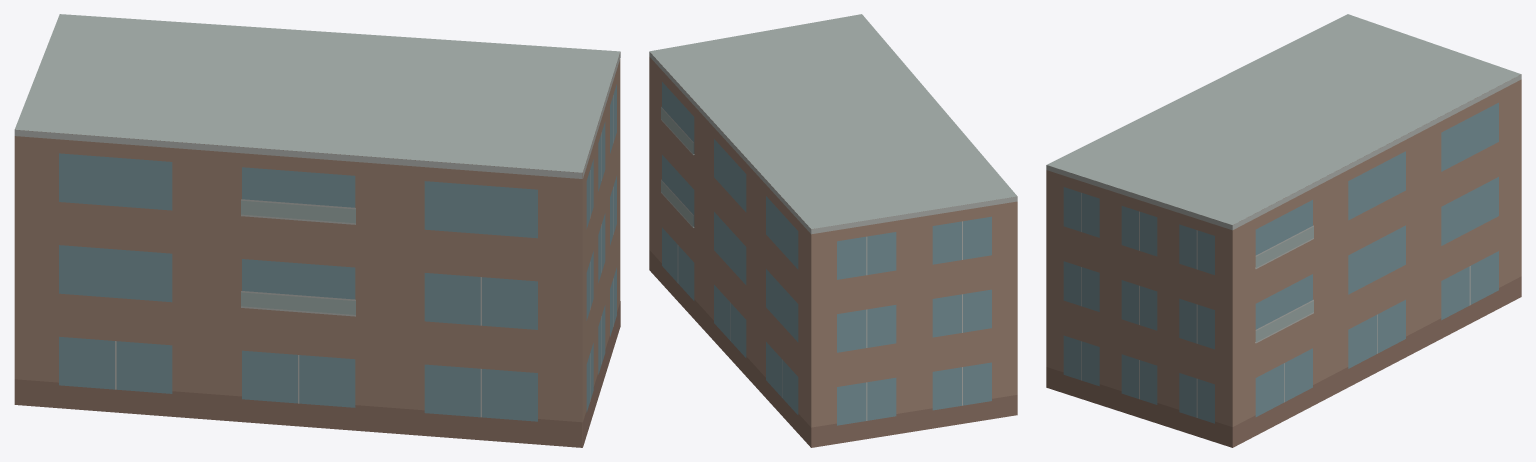
The model's file is survey-upis-32927596.glb.
The picture shows the model from 3 angles, left to right: view 1: azimuth 30°, elevation 25°; view 2: azimuth 150°, elevation 25°; view 3: azimuth 270°, elevation 25°; orthographic projection. The views are drawn at different scales.
Visible parts, largest first — view 1: survey-upis-32927596.tmp; view 2: survey-upis-32927596.tmp; view 3: survey-upis-32927596.tmp.
Part boxes in pixels (x1,y1,x2,y2): survey-upis-32927596.tmp: (14, 14, 620, 447); survey-upis-32927596.tmp: (649, 14, 1017, 447); survey-upis-32927596.tmp: (1046, 14, 1521, 447).
Size of the model in its own units: 21.57 by 10.6 by 20.5.
